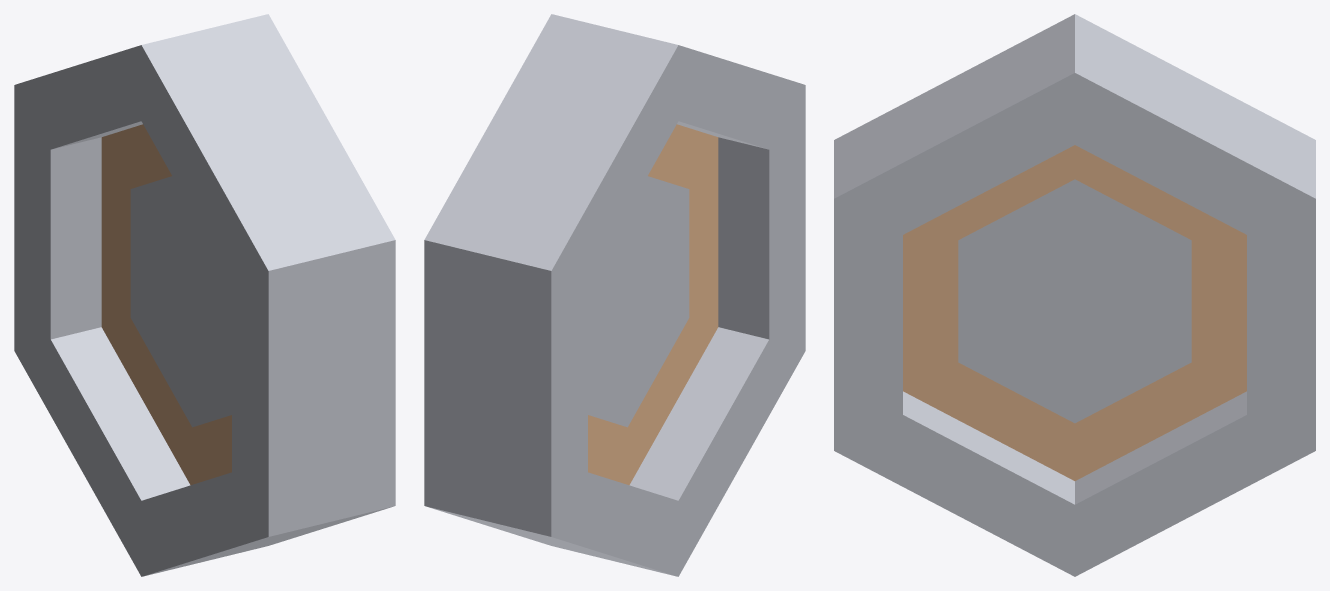
Rendered from coin-silver.glb.
3 renders of one model, left to right at view 1: azimuth 30°, elevation 25°; view 2: azimuth 150°, elevation 25°; view 3: azimuth 270°, elevation 25°, orthographic. The views are drawn at different scales.
Visible parts, largest first — view 1: coin_silver; view 2: coin_silver; view 3: coin_silver.
Part boxes in pixels (left/top/right/bottom): coin_silver: left=14, top=14, right=395, bottom=576; coin_silver: left=424, top=14, right=805, bottom=576; coin_silver: left=834, top=14, right=1315, bottom=576.
Bounding box in the file's own units: 0.1 × 0.4 × 0.3464.
